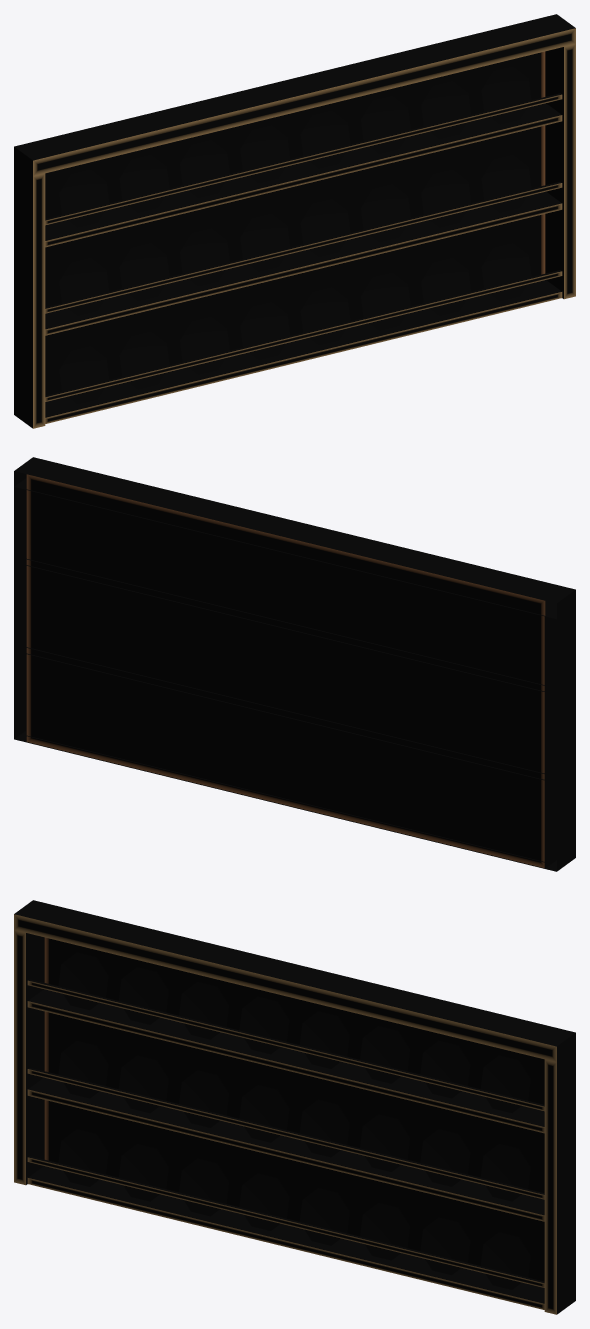
File: dresser_180.glb
3 views of the same model, one above another, from view 1: azimuth 30°, elevation 25°; view 2: azimuth 150°, elevation 25°; view 3: azimuth 330°, elevation 25° (orthographic).
Visible parts, largest first — view 1: pine, board, crockery, blue; view 2: board, pine; view 3: pine, board, crockery, blue.
Part boxes in pixels (bbox=[...]): pine: bbox=[14, 14, 575, 428]; board: bbox=[45, 51, 545, 395]; crockery: bbox=[59, 81, 531, 389]; blue: bbox=[59, 66, 531, 403]; board: bbox=[26, 474, 545, 867]; pine: bbox=[14, 457, 575, 871]; pine: bbox=[14, 900, 575, 1314]; board: bbox=[44, 937, 544, 1281]; crockery: bbox=[58, 952, 530, 1289]; blue: bbox=[58, 967, 530, 1275].
Bounding box in the file's own units: 1.8 × 0.85 × 0.11.
